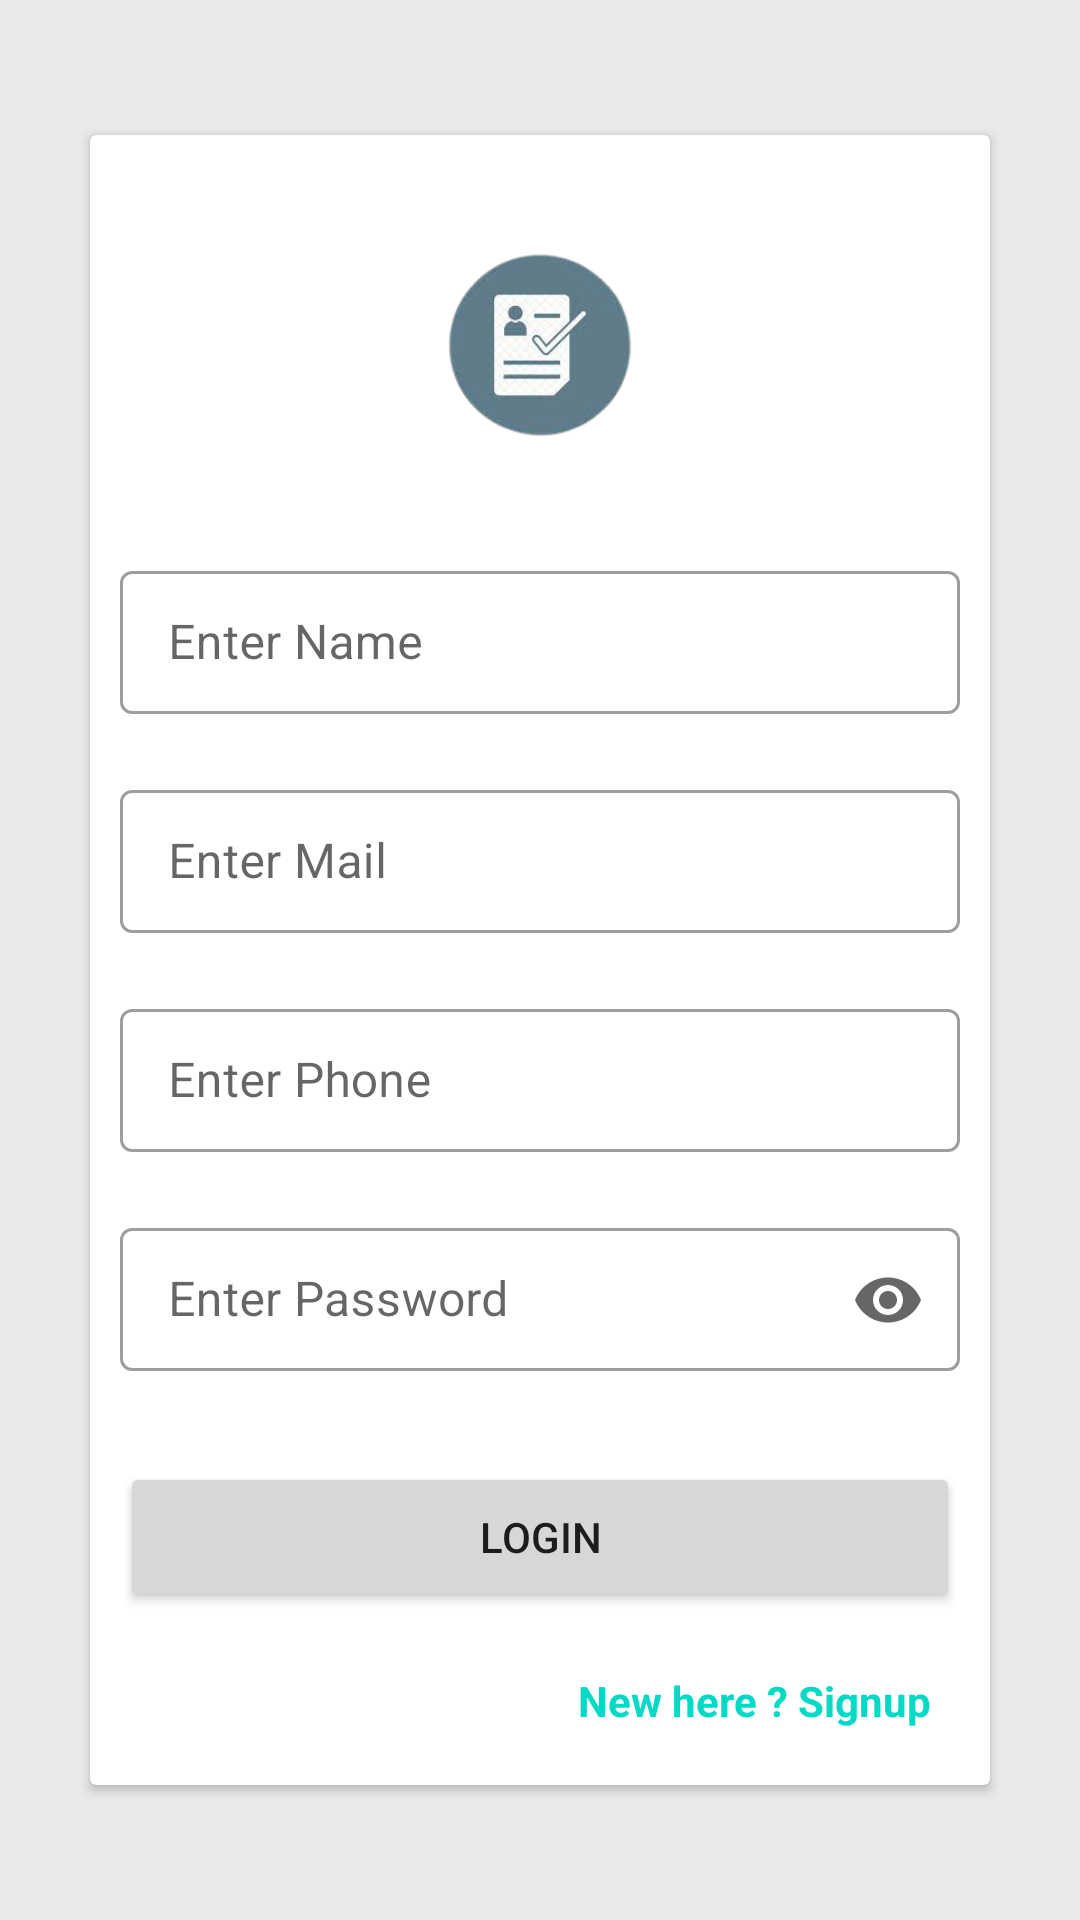

Icon bounding boxes for this 1080*1920 phone screenshot, format (x1, y1, x2, y2):
reg: (449, 254, 631, 436)
